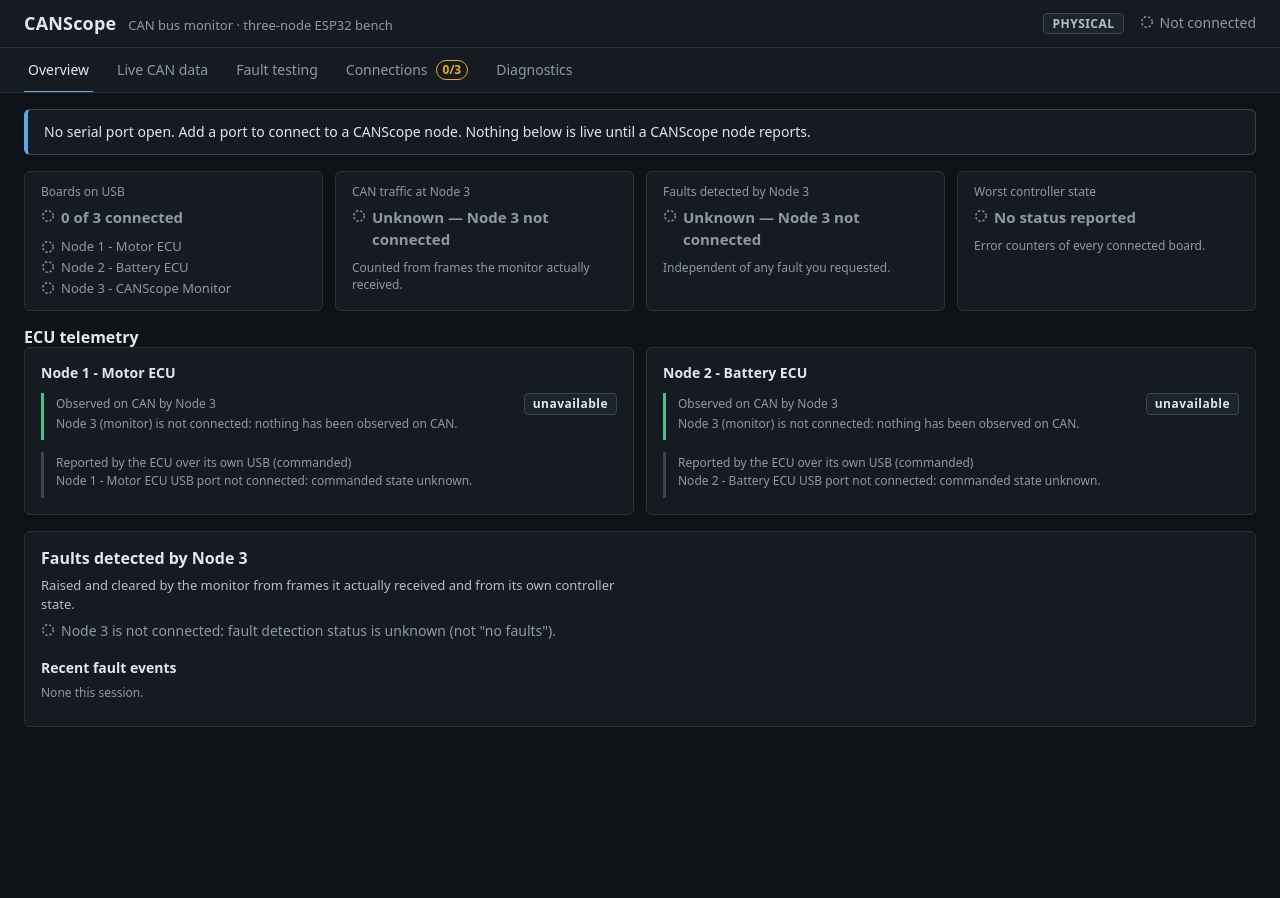
Test: DashboardPage in physical mode › starts idle with every node unconnected and every control disabled, never showing mock data
Check: the text with test id "data-origin" reads "PHYSICAL", box [1052,15,1114,32]
Check: the message with test id "state-idle" is shown, box [24,109,1256,155]
What coordinates should you click on to do the following:
click the tab "Fault testing"
I would click on:
 (277, 70)
Its box is [224,48,330,92].
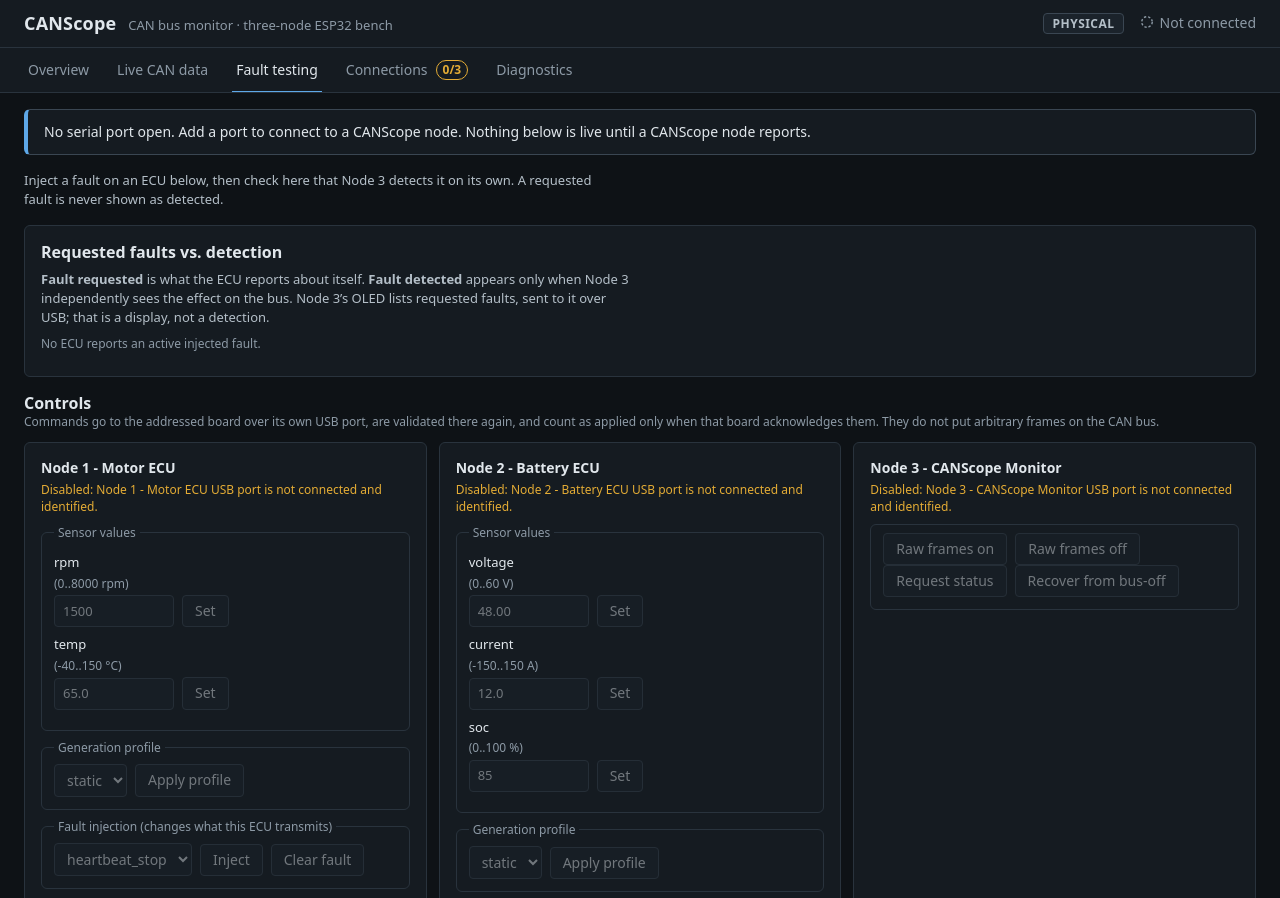
Check: the button "Raw frames on" is disabled, box [883,533,1007,565]
Check: the button "Raw frames off" is disabled, box [1015,533,1140,565]
Check: the button "Request status" is disabled, box [883,565,1006,597]
